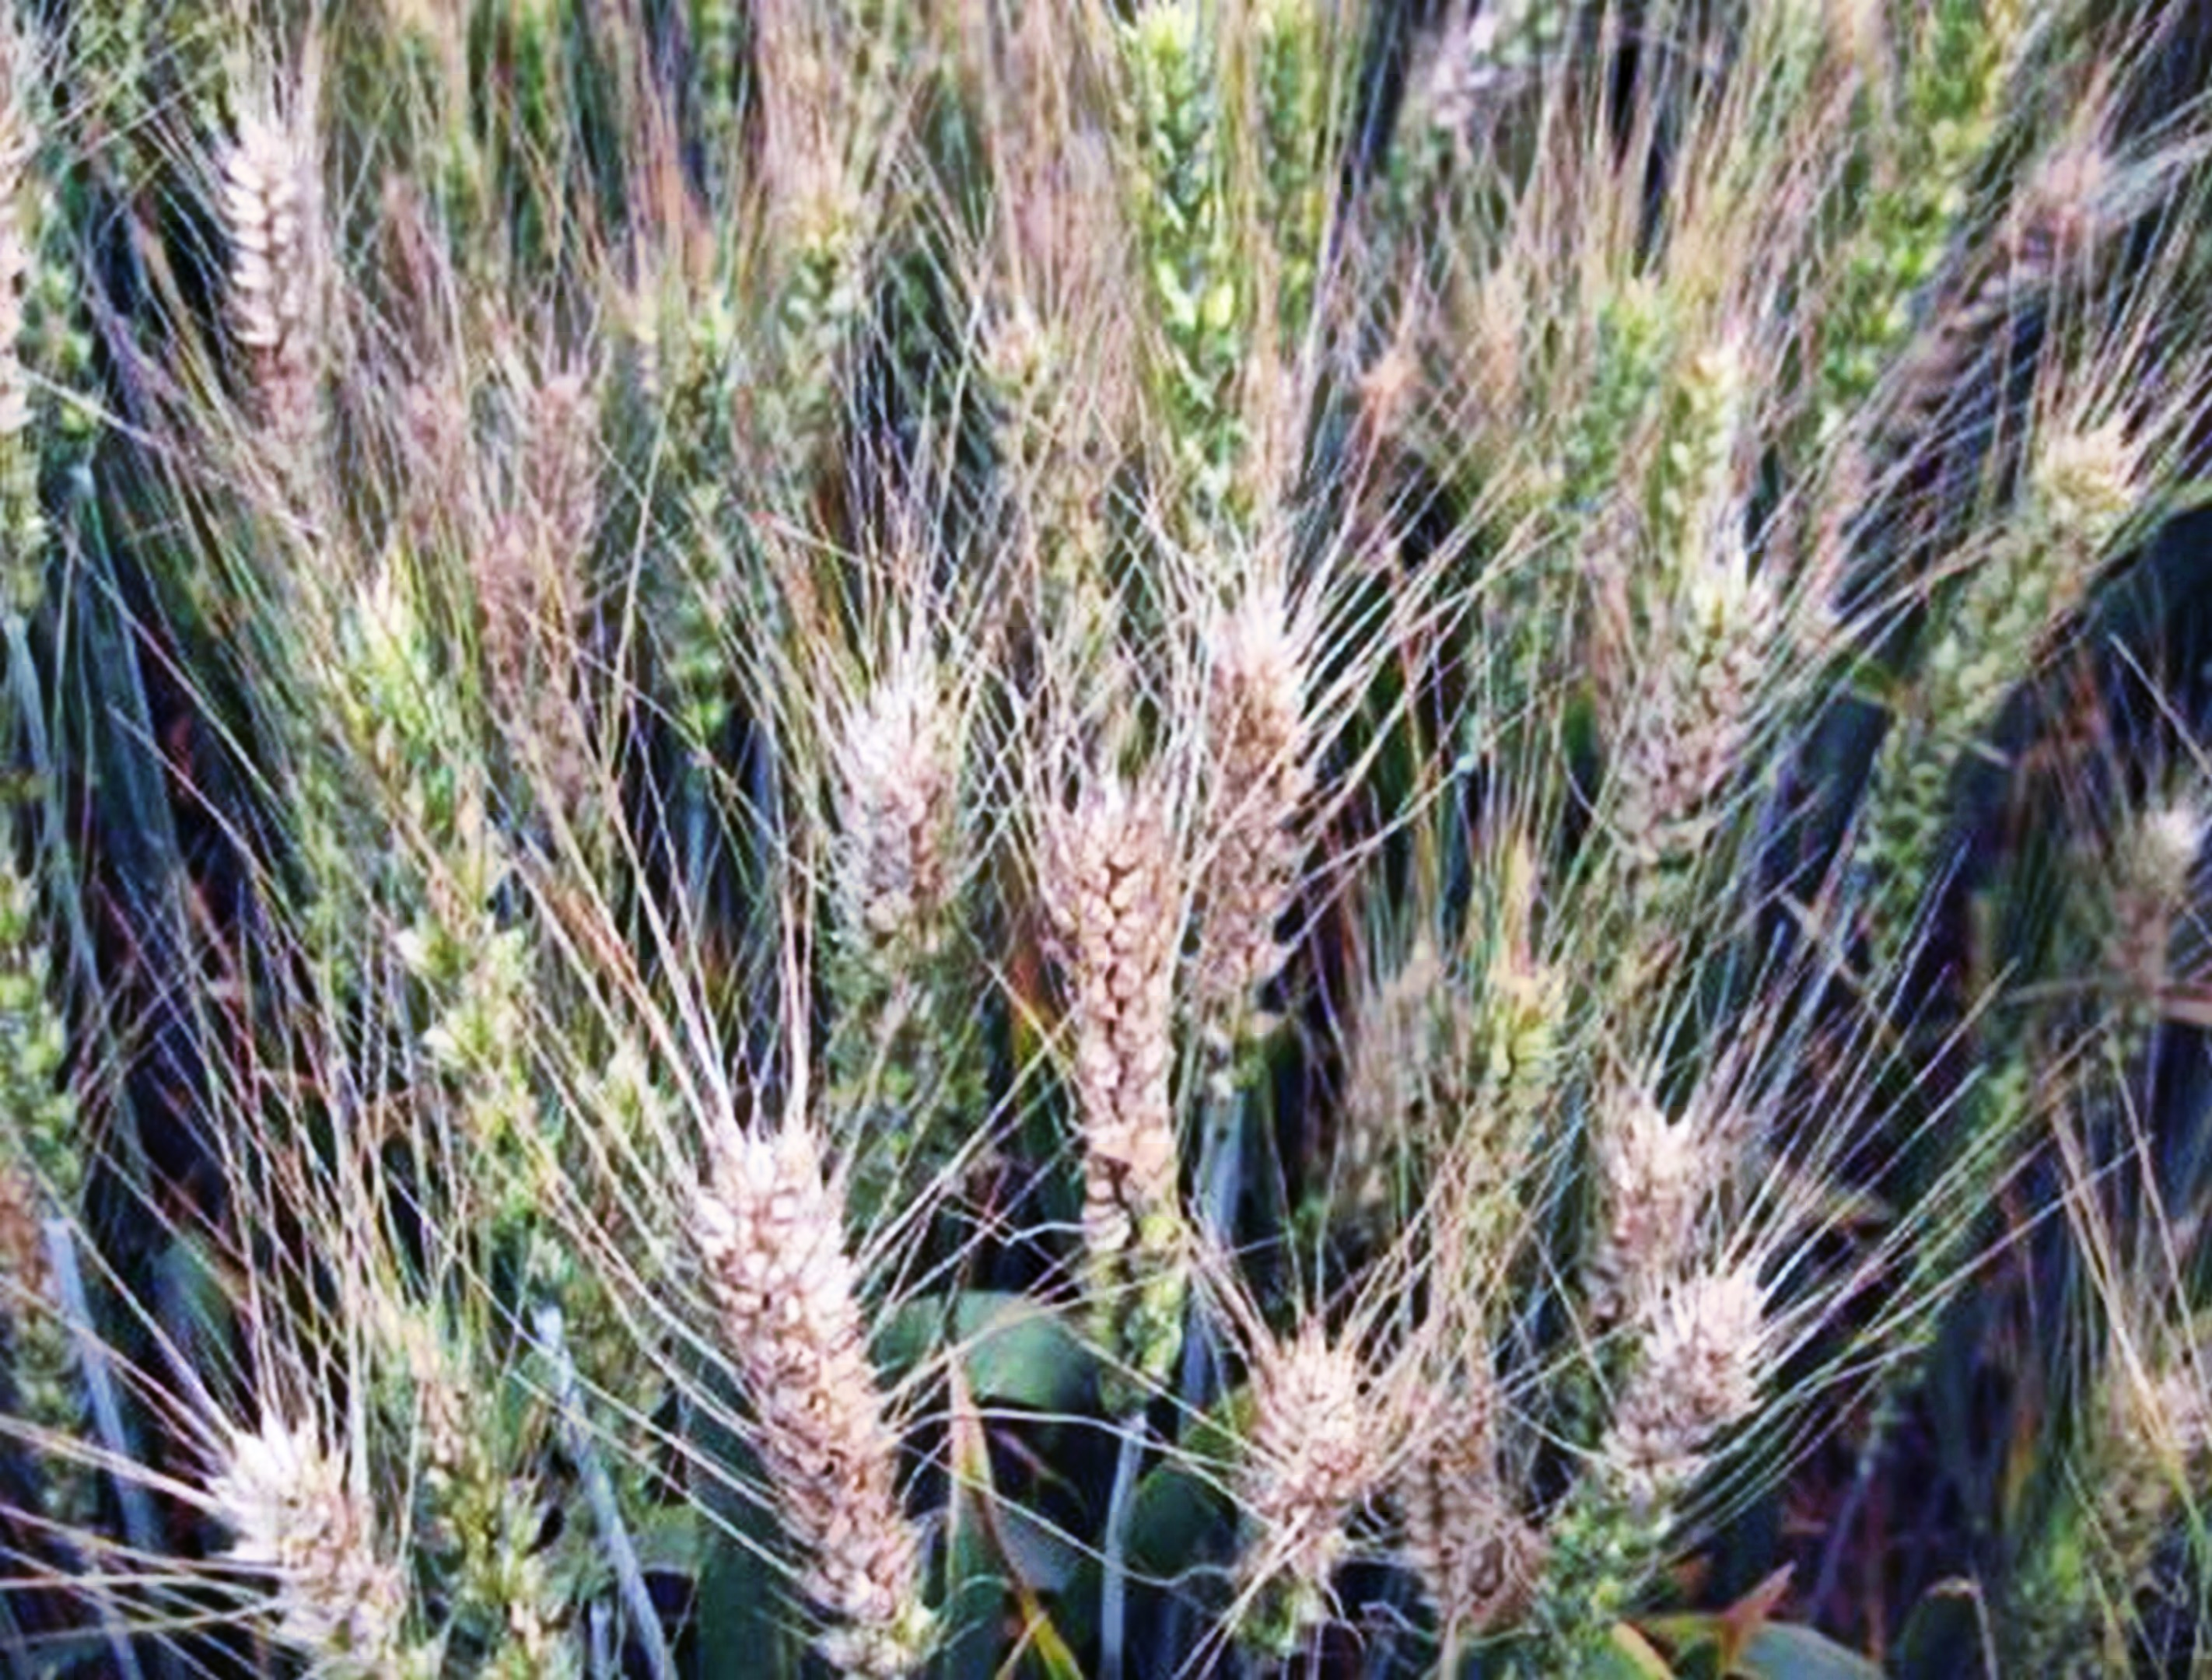Wheat scab: (1034, 808, 1217, 1417), (792, 649, 961, 1136), (1559, 1269, 1775, 1646)
